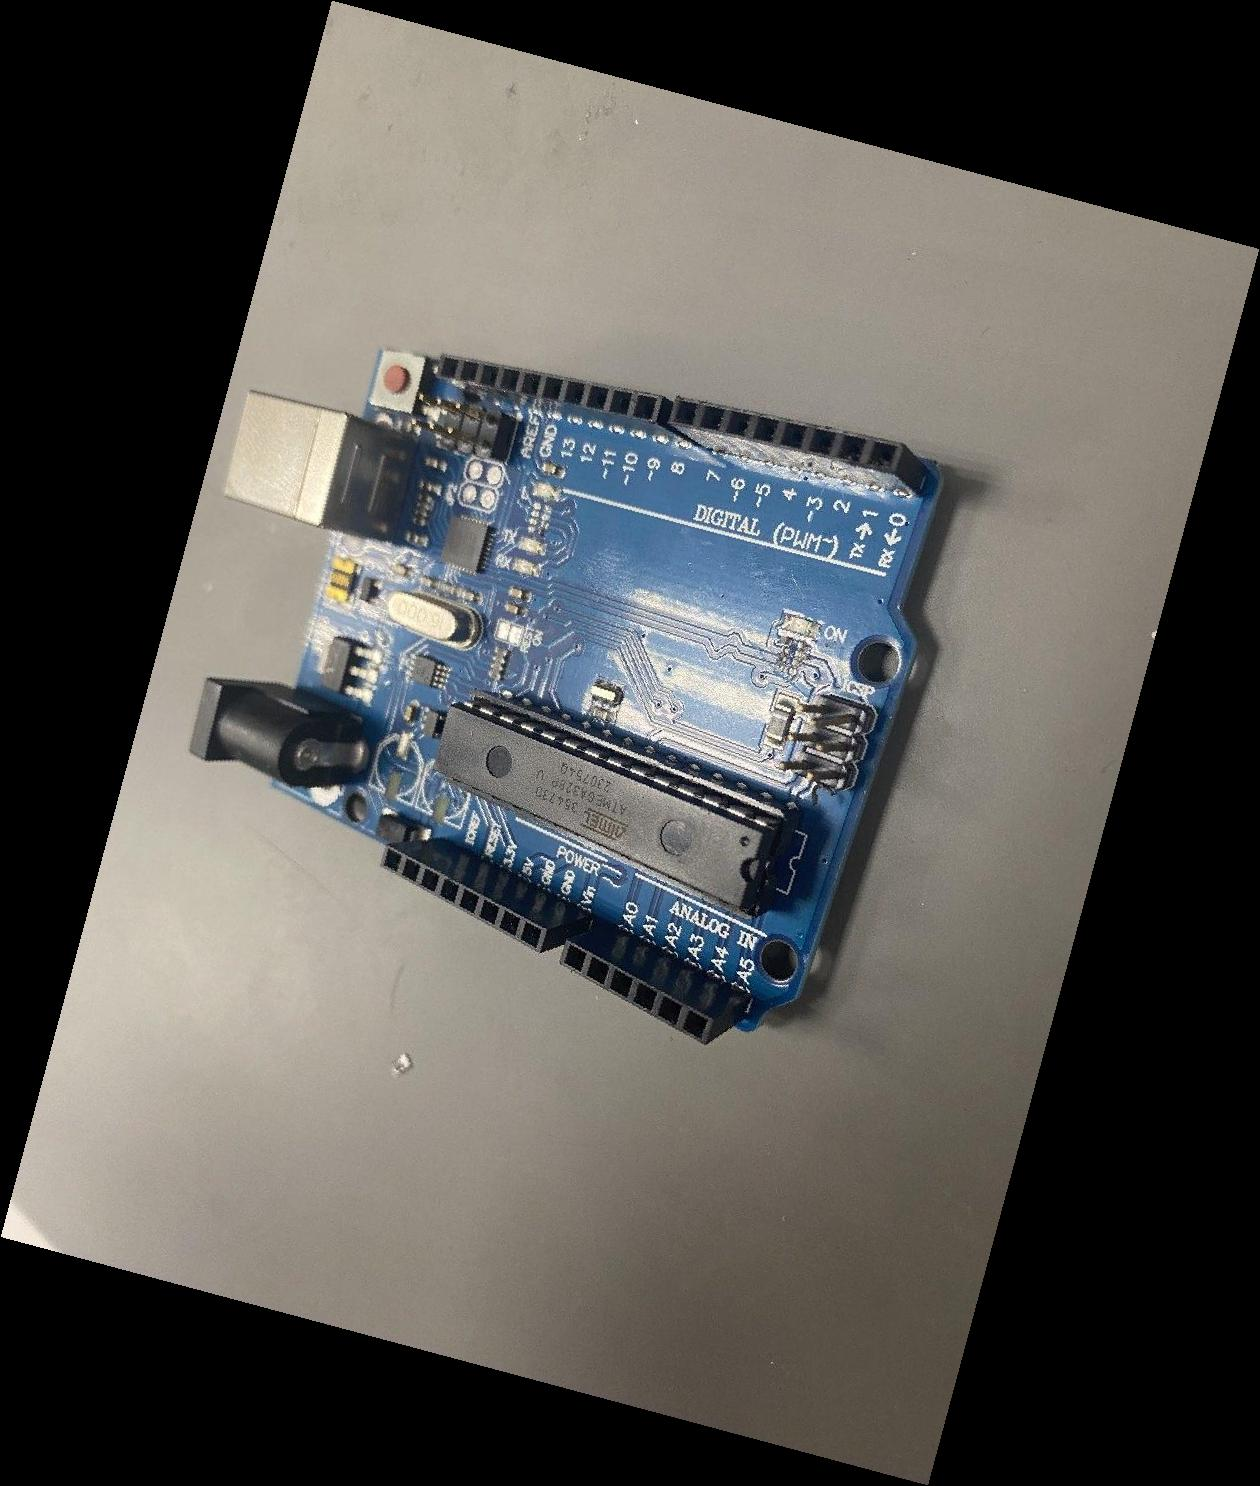ATmega328 chip: (431, 691, 799, 920)
Arduino board: (189, 349, 945, 1047)
USB: (222, 387, 416, 544)
pins: (670, 394, 929, 497), (376, 836, 596, 954), (436, 354, 697, 445), (559, 927, 752, 1046)
resistor: (486, 647, 507, 681), (411, 495, 432, 527)
